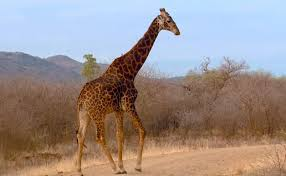Jirafa: (122, 5, 183, 86)
